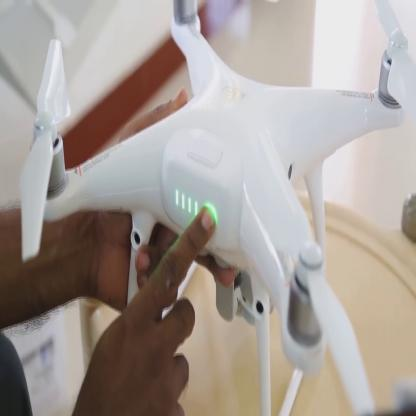drone: (17, 2, 416, 400)
